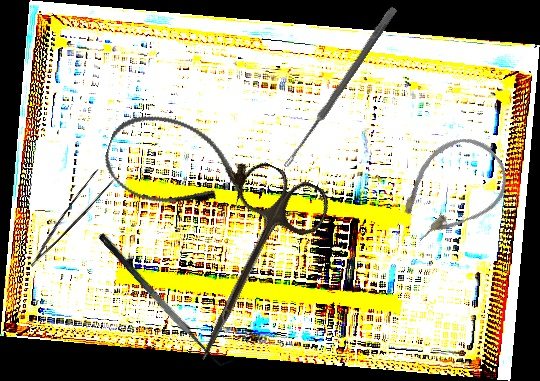Cannula: (96, 102, 256, 228), (381, 122, 522, 258)
Iris Scissors: (165, 156, 336, 381)
Spatula Surgical: (96, 222, 234, 376)
Surgical Spoon: (282, 5, 398, 170)
Tissue Forceps: (16, 166, 117, 267)
